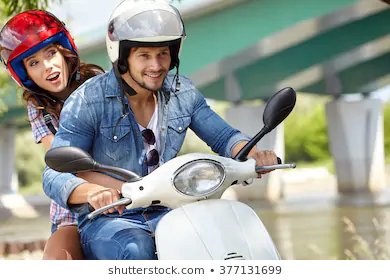helmet: (59, 1, 291, 212), (2, 2, 90, 100)
